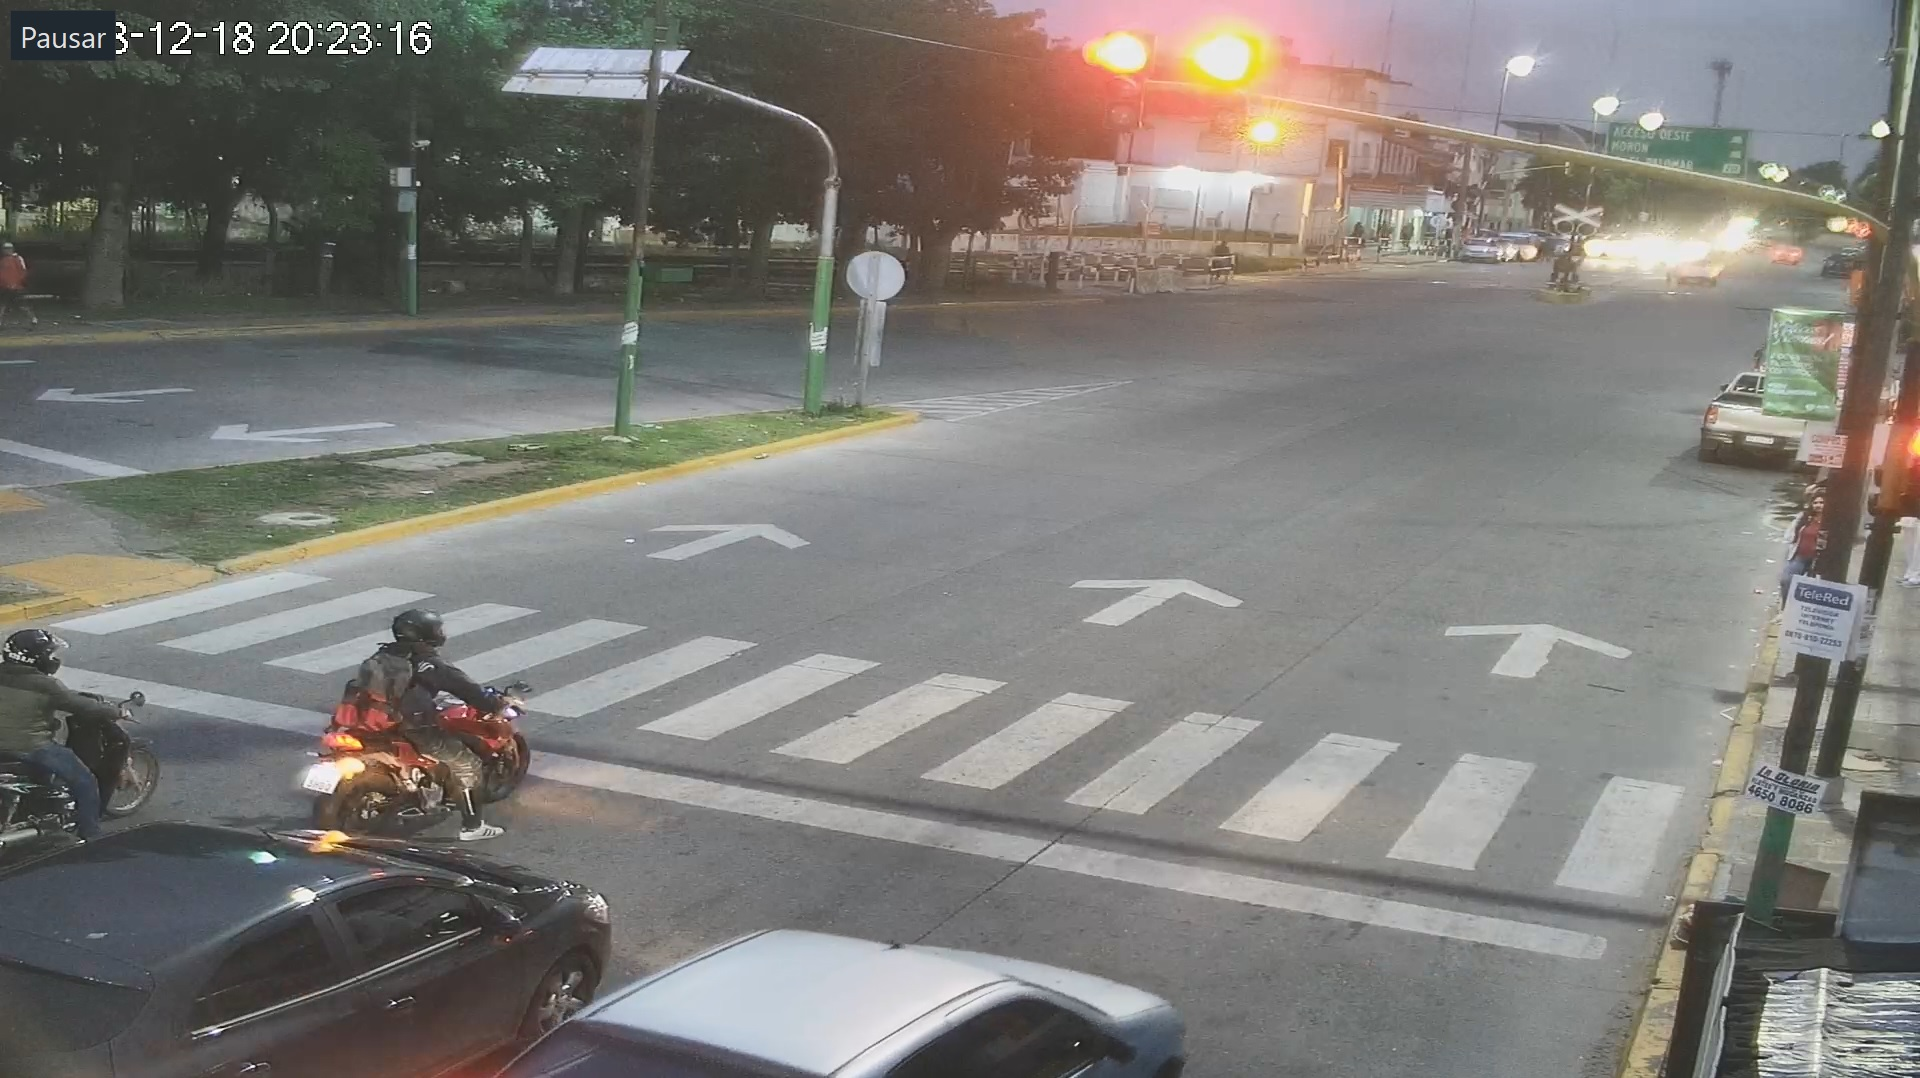car: (1, 815, 608, 1078), (492, 910, 1193, 1078), (1680, 348, 1847, 486)
motorcycle: (282, 606, 555, 844), (1, 632, 164, 848)
